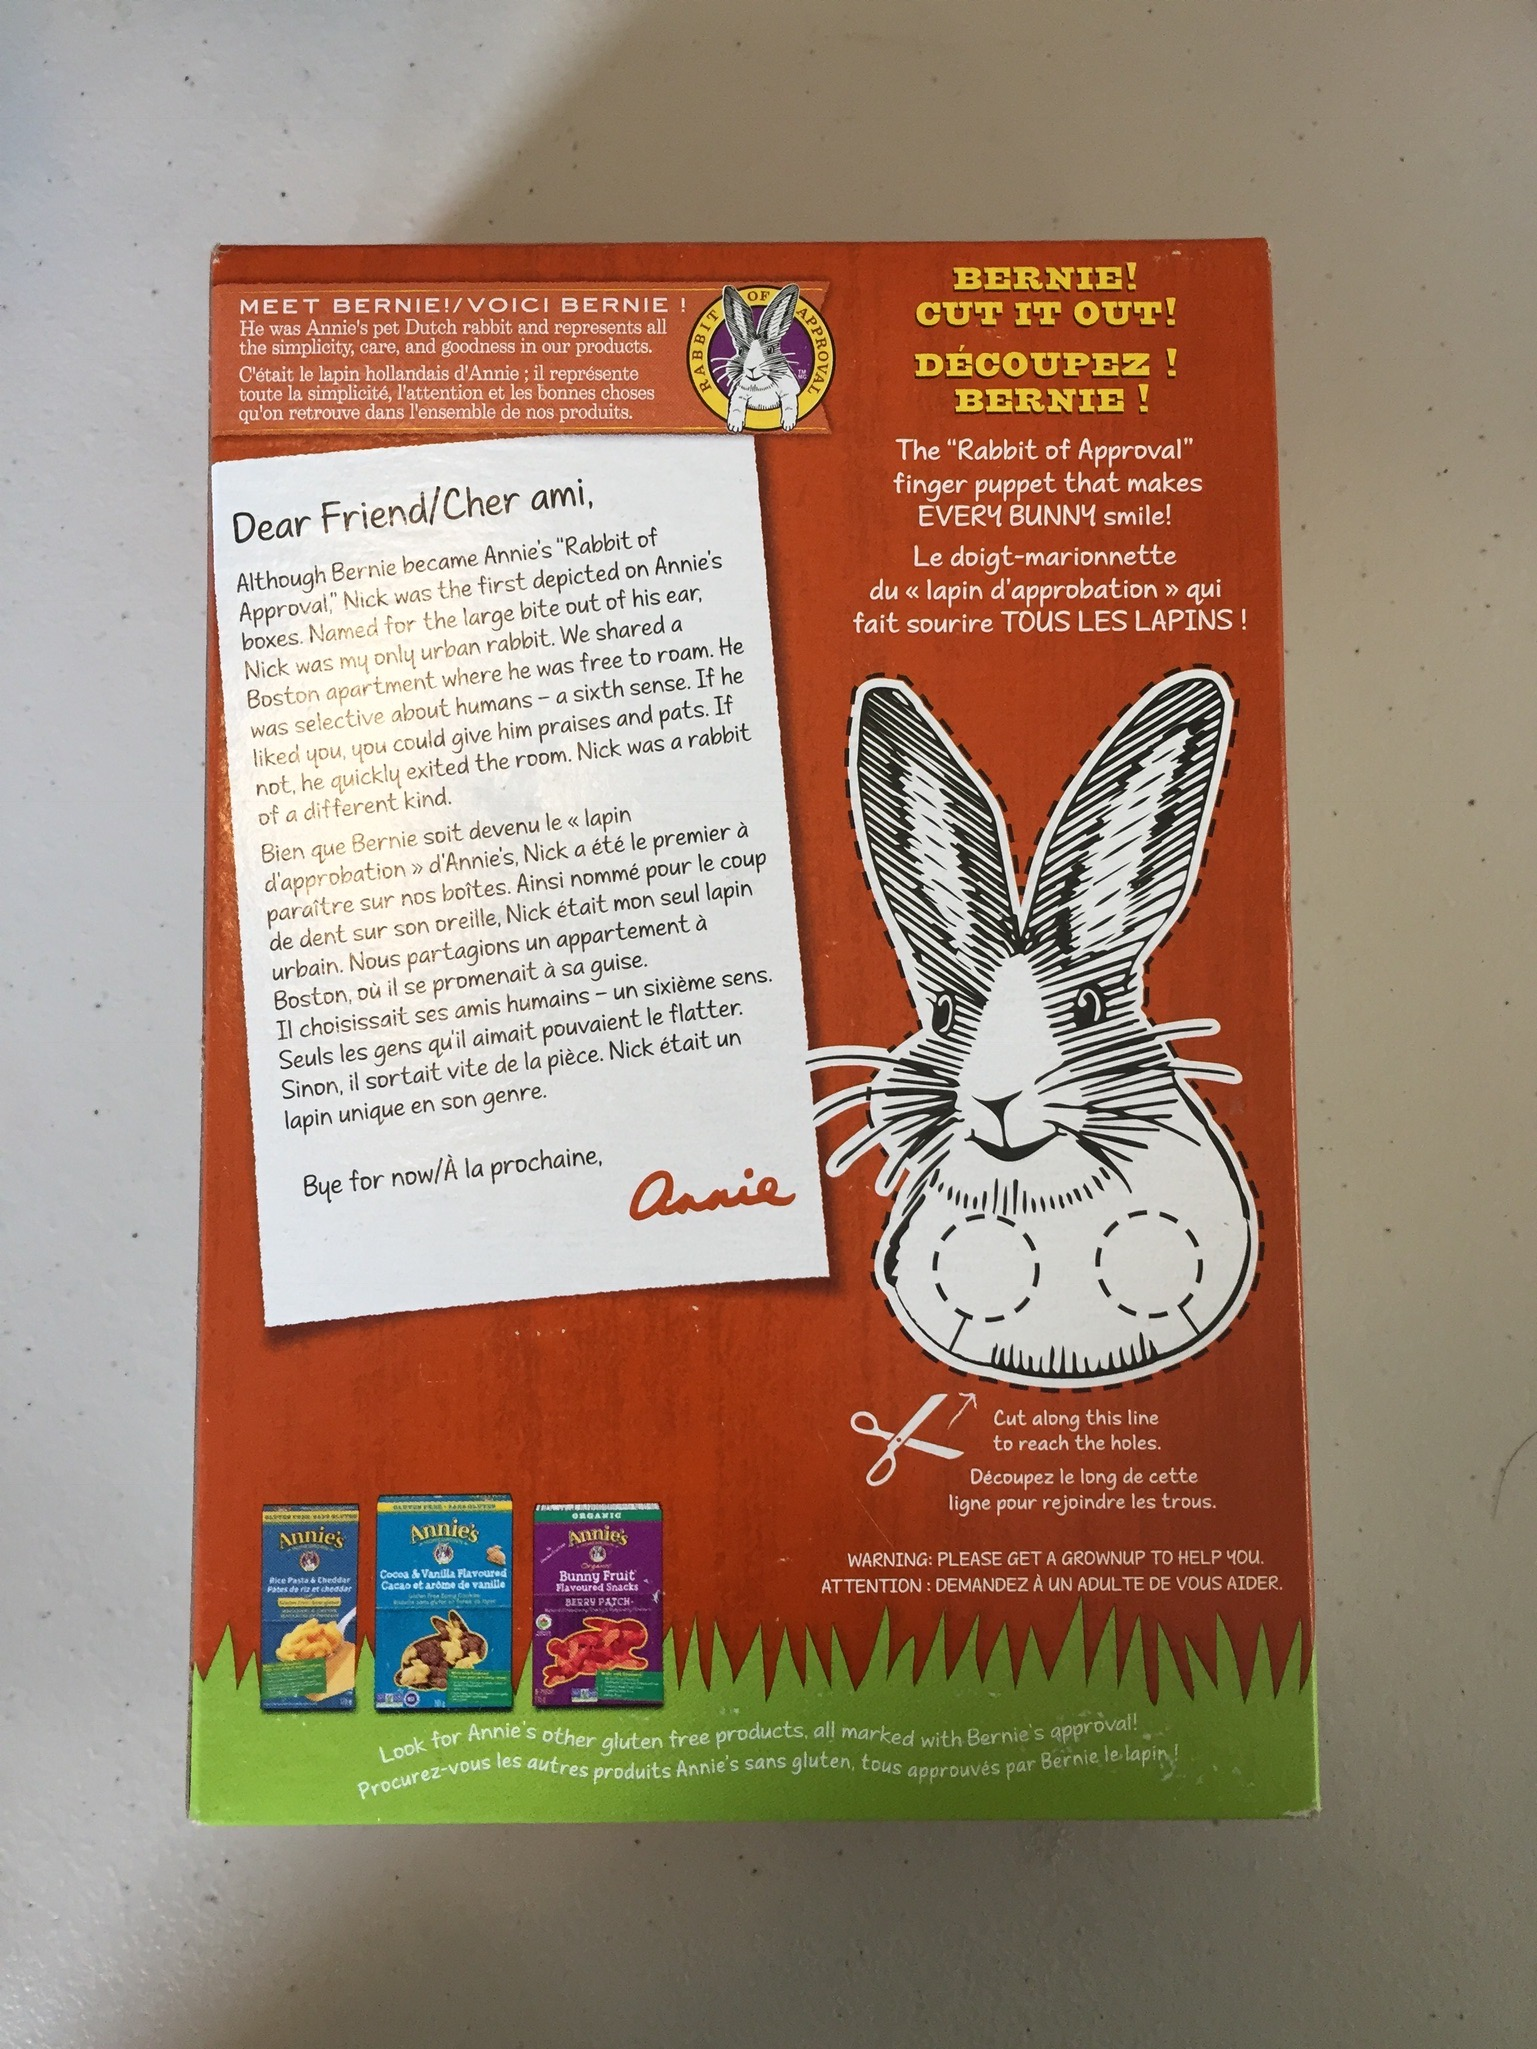annies_snickerdoodles_cinnamon_sugar: (221, 254, 1305, 1807)
